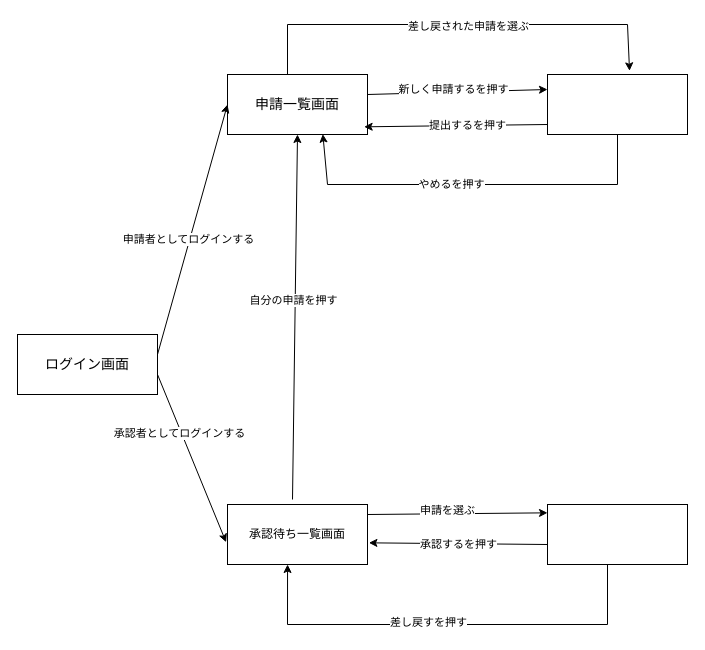
The diagram is 705 pixels wide and 650 high, and some of its shapes have lost their labels. Each missing label, with the centre of its shape:
申請作成画面: point (617, 104)
申請詳細画面: point (617, 534)
